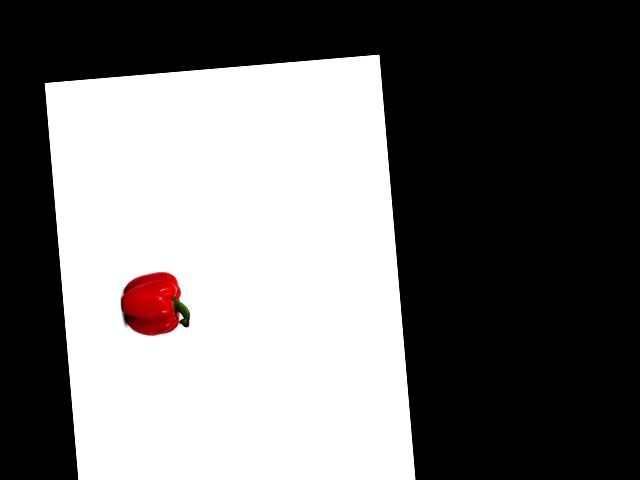bell_pepper: (119, 266, 192, 339)
